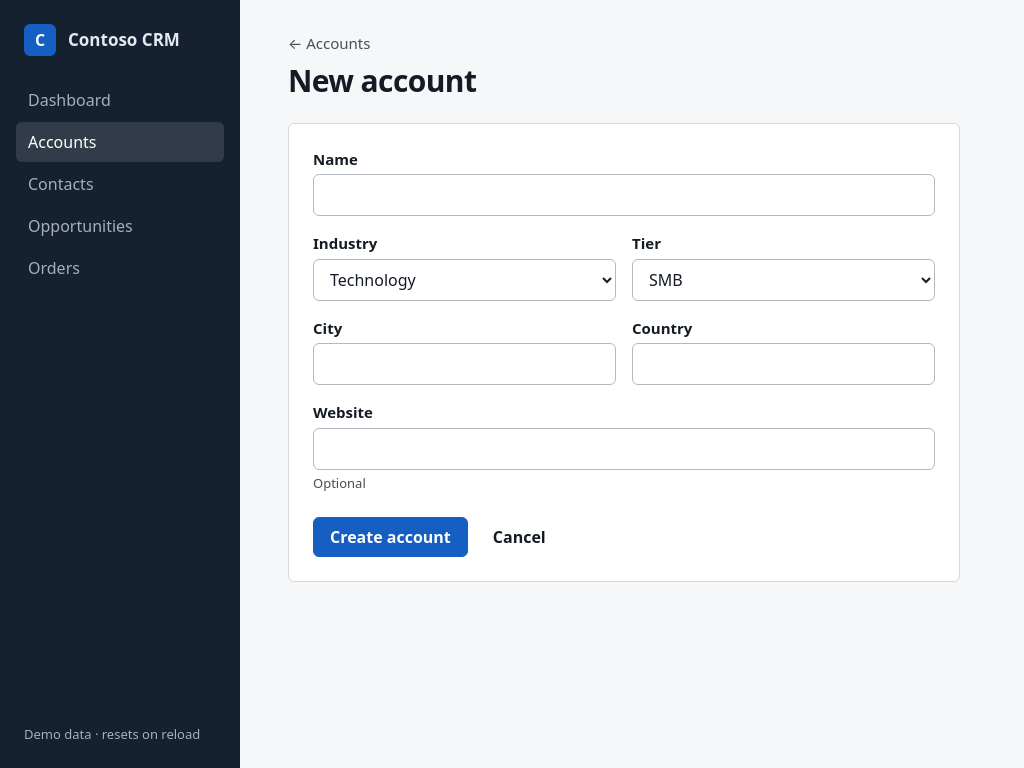
Accounts › shows the domain error when the name is already taken
The width and height of the screenshot is (1024, 768).
Type "northwind traders" into the field labelled "Name" at x=624, y=195, box x1=313 y1=174 x2=935 y2=216
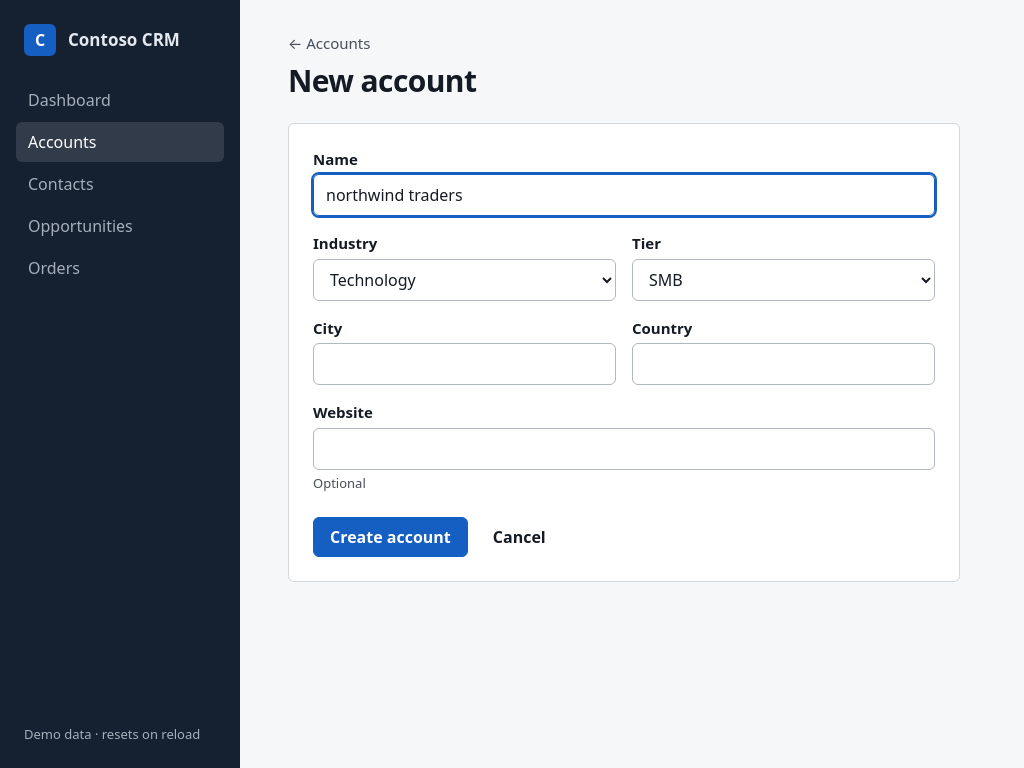
Type "Istanbul" into the field labelled "City" at x=464, y=364, box x1=313 y1=343 x2=616 y2=385
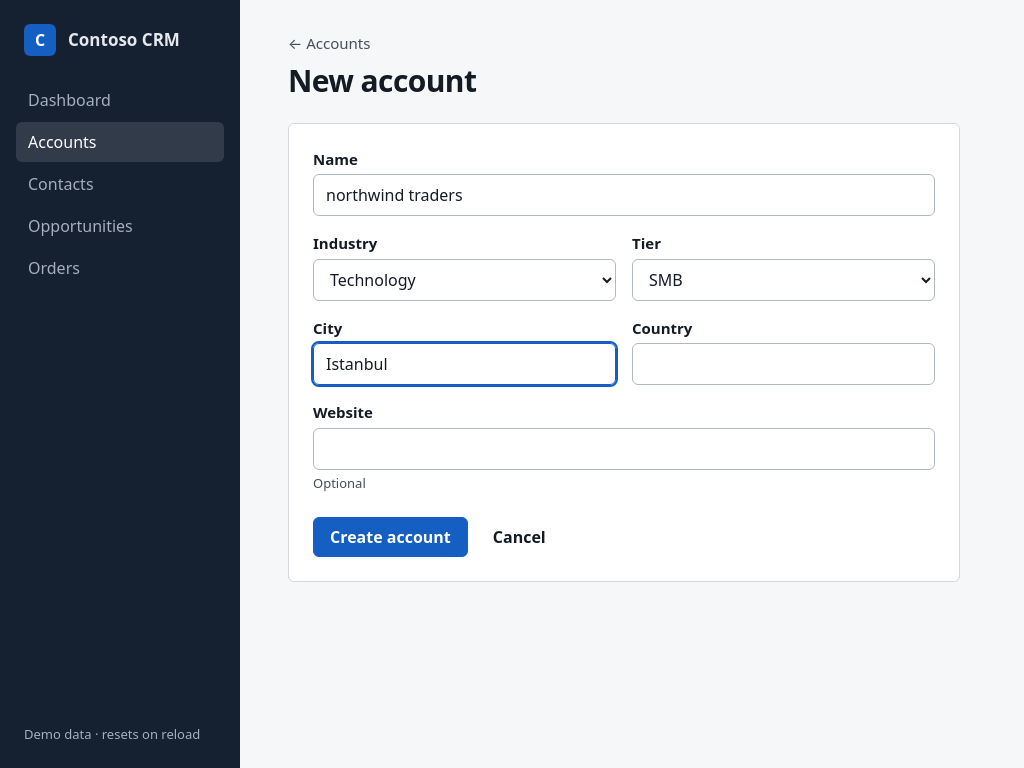
Type "Türkiye" into the field labelled "Country" at x=784, y=364, box x1=632 y1=343 x2=935 y2=385
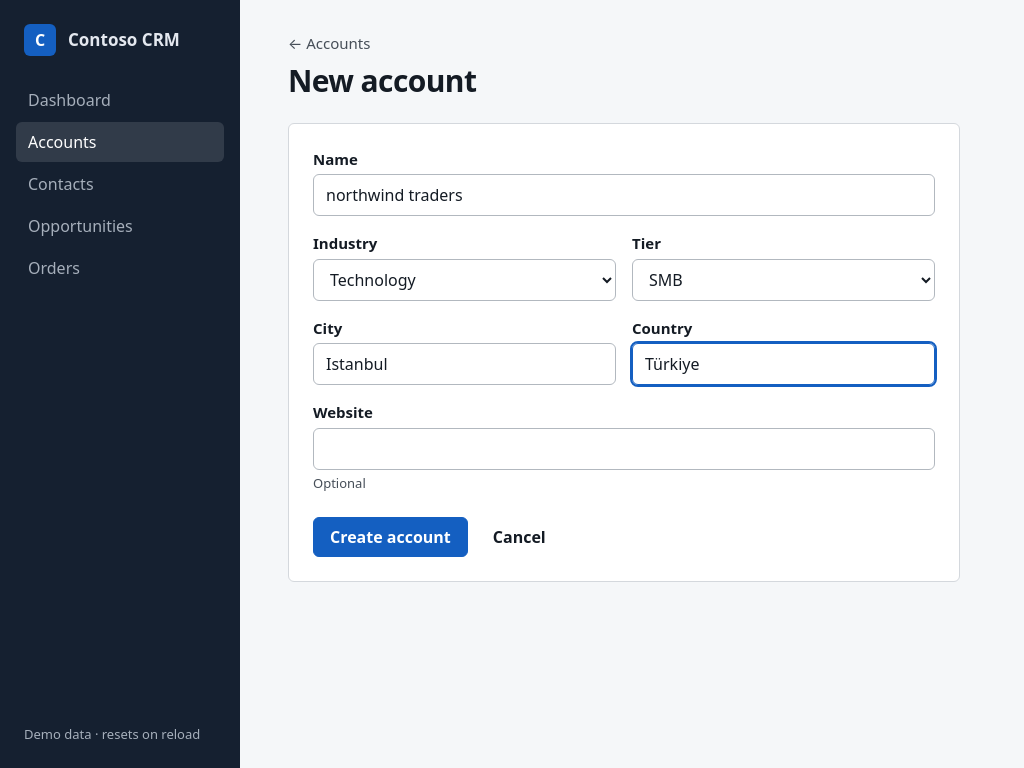
Click the button "Create account" at x=390, y=537, box x1=313 y1=517 x2=468 y2=557
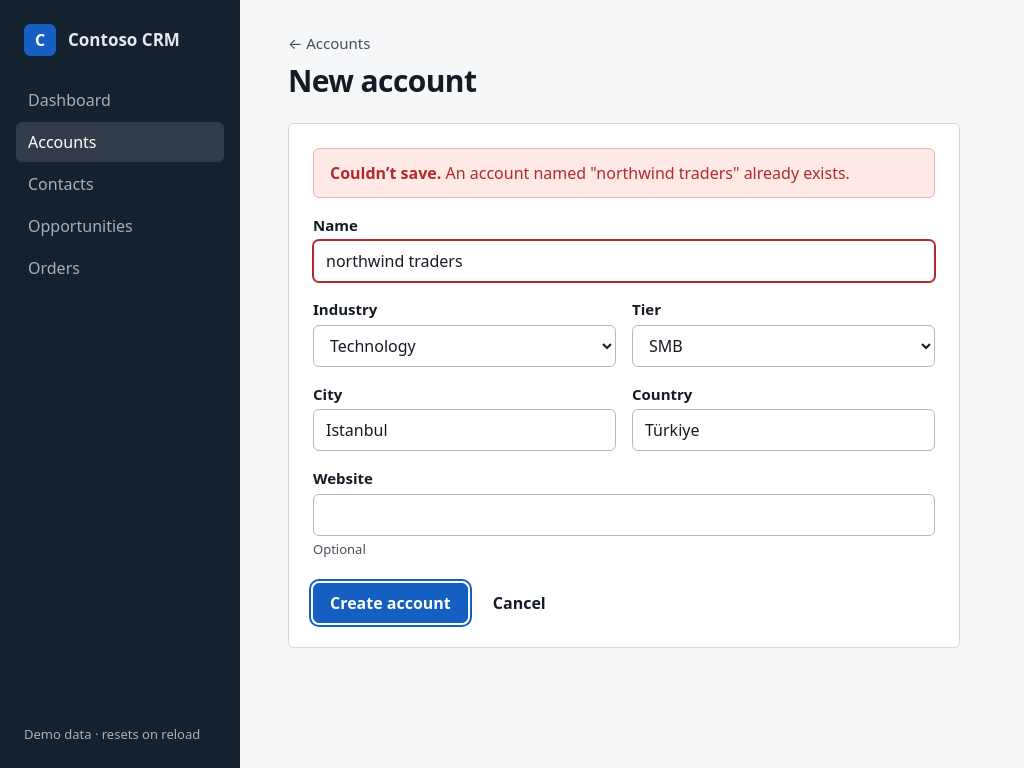
Expected: the heading "New account" is shown, x1=288 y1=62 x2=476 y2=98
Expected: the message "Couldn’t save. An account named \"northwind traders\" already exists." is shown, x1=313 y1=148 x2=935 y2=198
